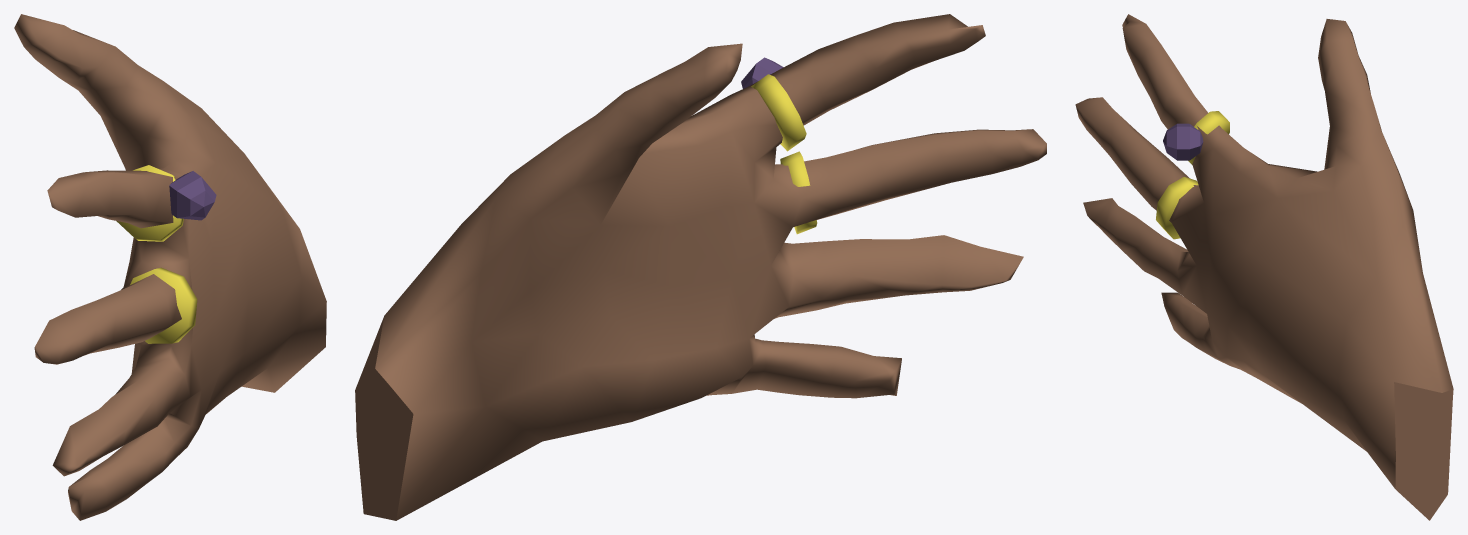
Rendered from Vivian_LeftHand.fbx.
3 renders of one model, left to right at view 1: azimuth 30°, elevation 25°; view 2: azimuth 150°, elevation 25°; view 3: azimuth 270°, elevation 25°, orthographic. The views are drawn at different scales.
Visible parts, largest first — view 1: V_LHand; view 2: V_LHand; view 3: V_LHand.
Part boxes in pixels (x1,y1,x2,y2): V_LHand: [14, 14, 326, 520]; V_LHand: [355, 14, 1046, 520]; V_LHand: [1075, 14, 1453, 520].
Size of the model in its own units: 12.77 by 12.34 by 11.
